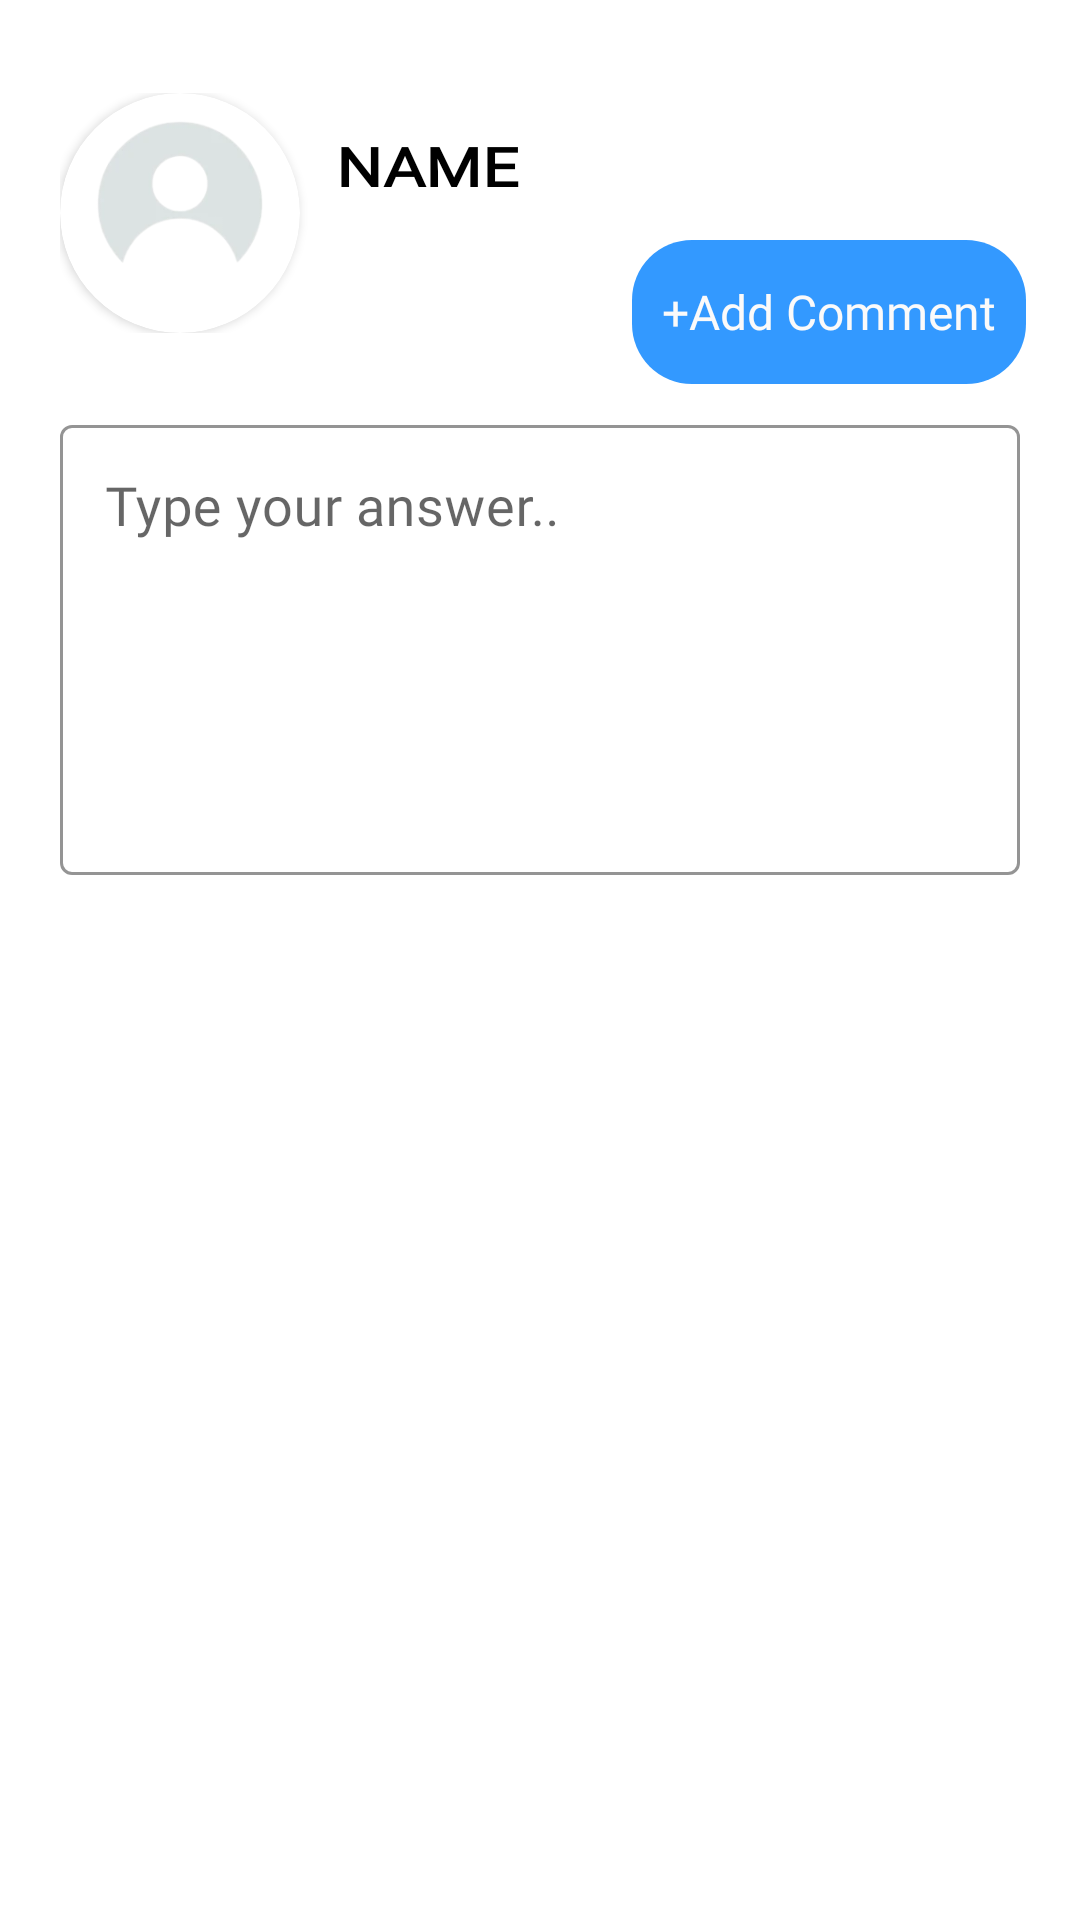

Point at icon controls on the screen. Image size 1080*1920, points as (x,y).
profile: (161,225)
